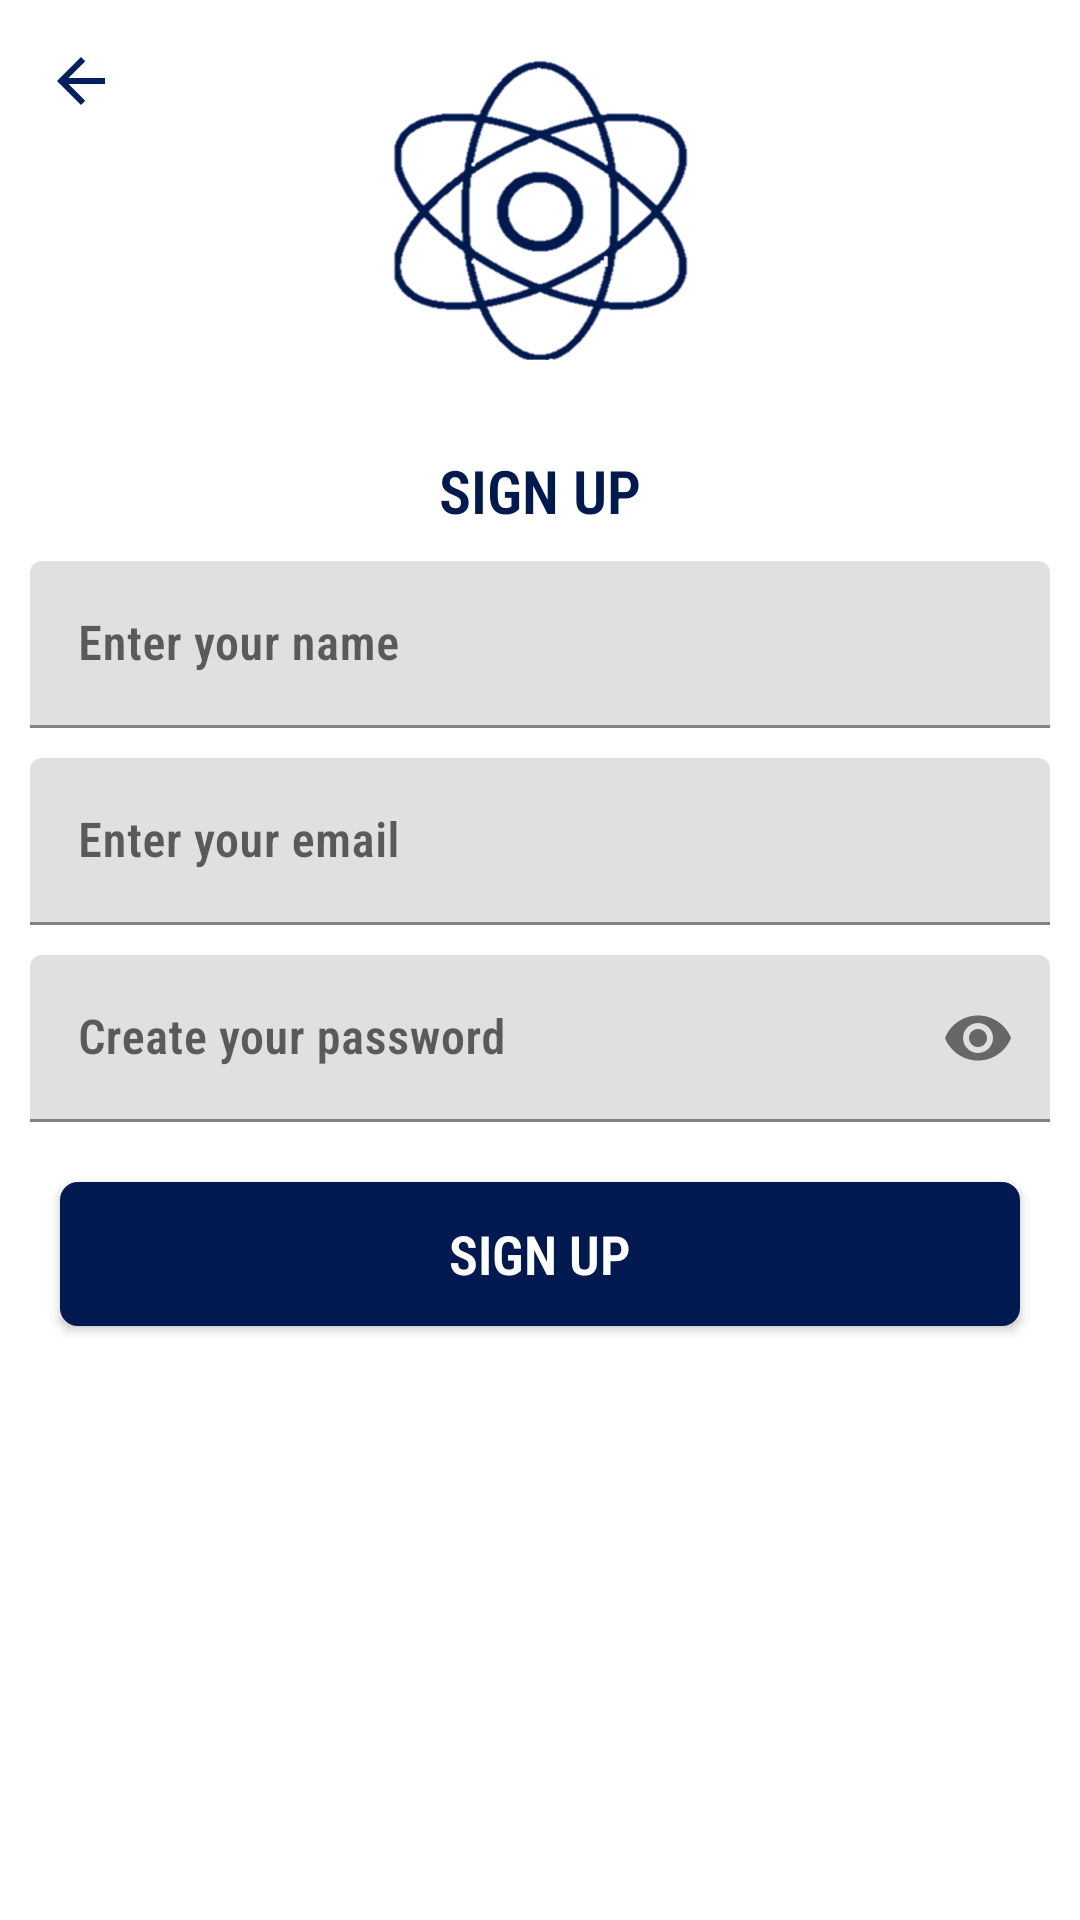

Icons on this 1080×1920 Android screen, each with the point to tap as (x=x, y=y):
back: (x=81, y=81)
